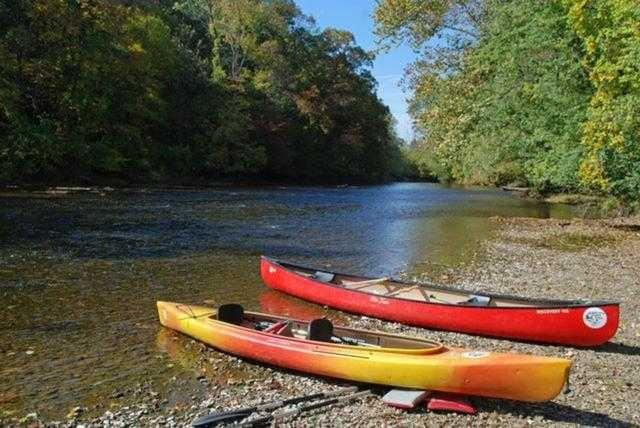kayak: (156, 299, 570, 405), (259, 255, 621, 350)
